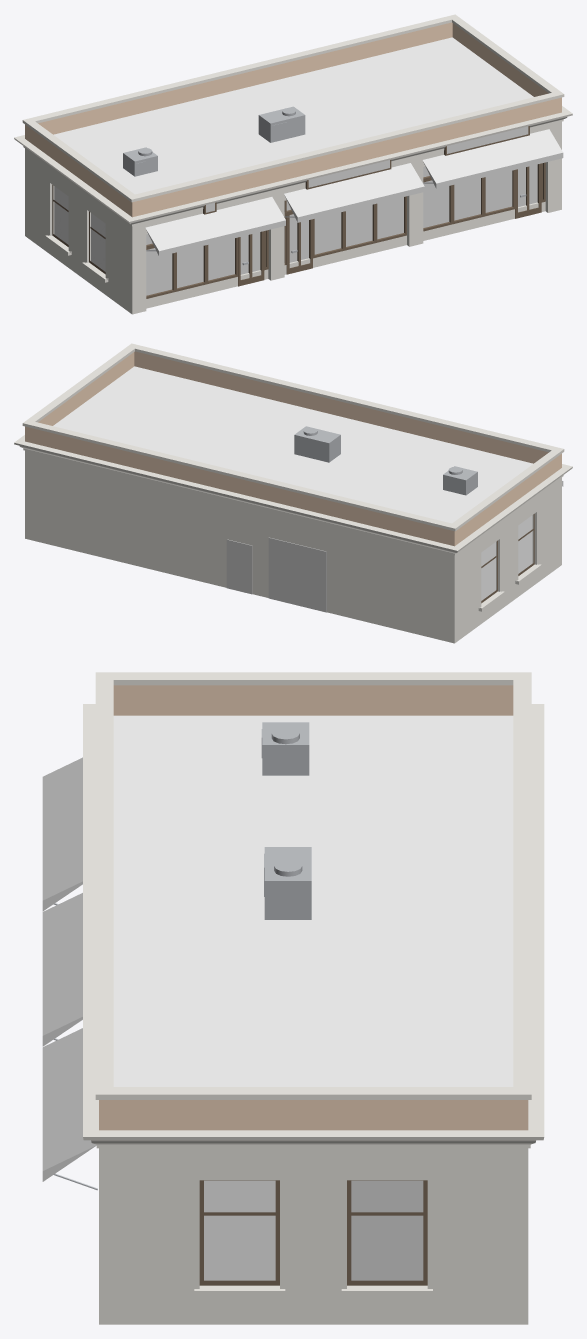
The model's file is midtown_w74f0s.glb.
The picture shows the model from 3 angles, top to bottom: view 1: azimuth 30°, elevation 25°; view 2: azimuth 150°, elevation 25°; view 3: azimuth 270°, elevation 25°; orthographic projection. The views are drawn at different scales.
Visible parts, largest first — view 1: midtown_w74f0s_Trim, midtown_w74f0s_Roof, midtown_w74f0s_Walls, midtown_w74f0s_Awning, midtown_w74f0s_WindowsLit, midtown_w74f0s_Frames, midtown_w74f0s_Details, midtown_w74f0s_Sign, midtown_w74f0s_Glass; view 2: midtown_w74f0s_Trim, midtown_w74f0s_Roof, midtown_w74f0s_Walls, midtown_w74f0s_Doors, midtown_w74f0s_Details, midtown_w74f0s_Glass; view 3: midtown_w74f0s_Roof, midtown_w74f0s_Trim, midtown_w74f0s_Walls, midtown_w74f0s_Awning, midtown_w74f0s_WindowsLit, midtown_w74f0s_Glass, midtown_w74f0s_Details, midtown_w74f0s_Frames.
Boxes of the visible parts, x1,y1,x2,y2 form: midtown_w74f0s_Trim: [14, 14, 572, 314]; midtown_w74f0s_Roof: [53, 37, 533, 194]; midtown_w74f0s_Walls: [25, 22, 561, 217]; midtown_w74f0s_Awning: [145, 129, 563, 256]; midtown_w74f0s_WindowsLit: [146, 164, 537, 295]; midtown_w74f0s_Frames: [52, 126, 545, 298]; midtown_w74f0s_Details: [123, 106, 526, 265]; midtown_w74f0s_Sign: [206, 126, 528, 212]; midtown_w74f0s_Glass: [54, 186, 105, 271]; midtown_w74f0s_Trim: [14, 343, 572, 643]; midtown_w74f0s_Roof: [53, 366, 533, 523]; midtown_w74f0s_Walls: [25, 351, 561, 546]; midtown_w74f0s_Doors: [226, 537, 326, 612]; midtown_w74f0s_Details: [294, 426, 477, 495]; midtown_w74f0s_Glass: [481, 515, 532, 600]; midtown_w74f0s_Roof: [113, 715, 513, 1086]; midtown_w74f0s_Trim: [83, 672, 544, 1324]; midtown_w74f0s_Walls: [99, 685, 528, 1130]; midtown_w74f0s_Awning: [42, 757, 96, 1181]; midtown_w74f0s_WindowsLit: [351, 1180, 423, 1280]; midtown_w74f0s_Glass: [204, 1180, 275, 1280]; midtown_w74f0s_Details: [53, 722, 311, 1190]; midtown_w74f0s_Frames: [199, 1180, 427, 1285].
Bounding box in the file's own units: 76.4 × 19.62 × 37.4.
